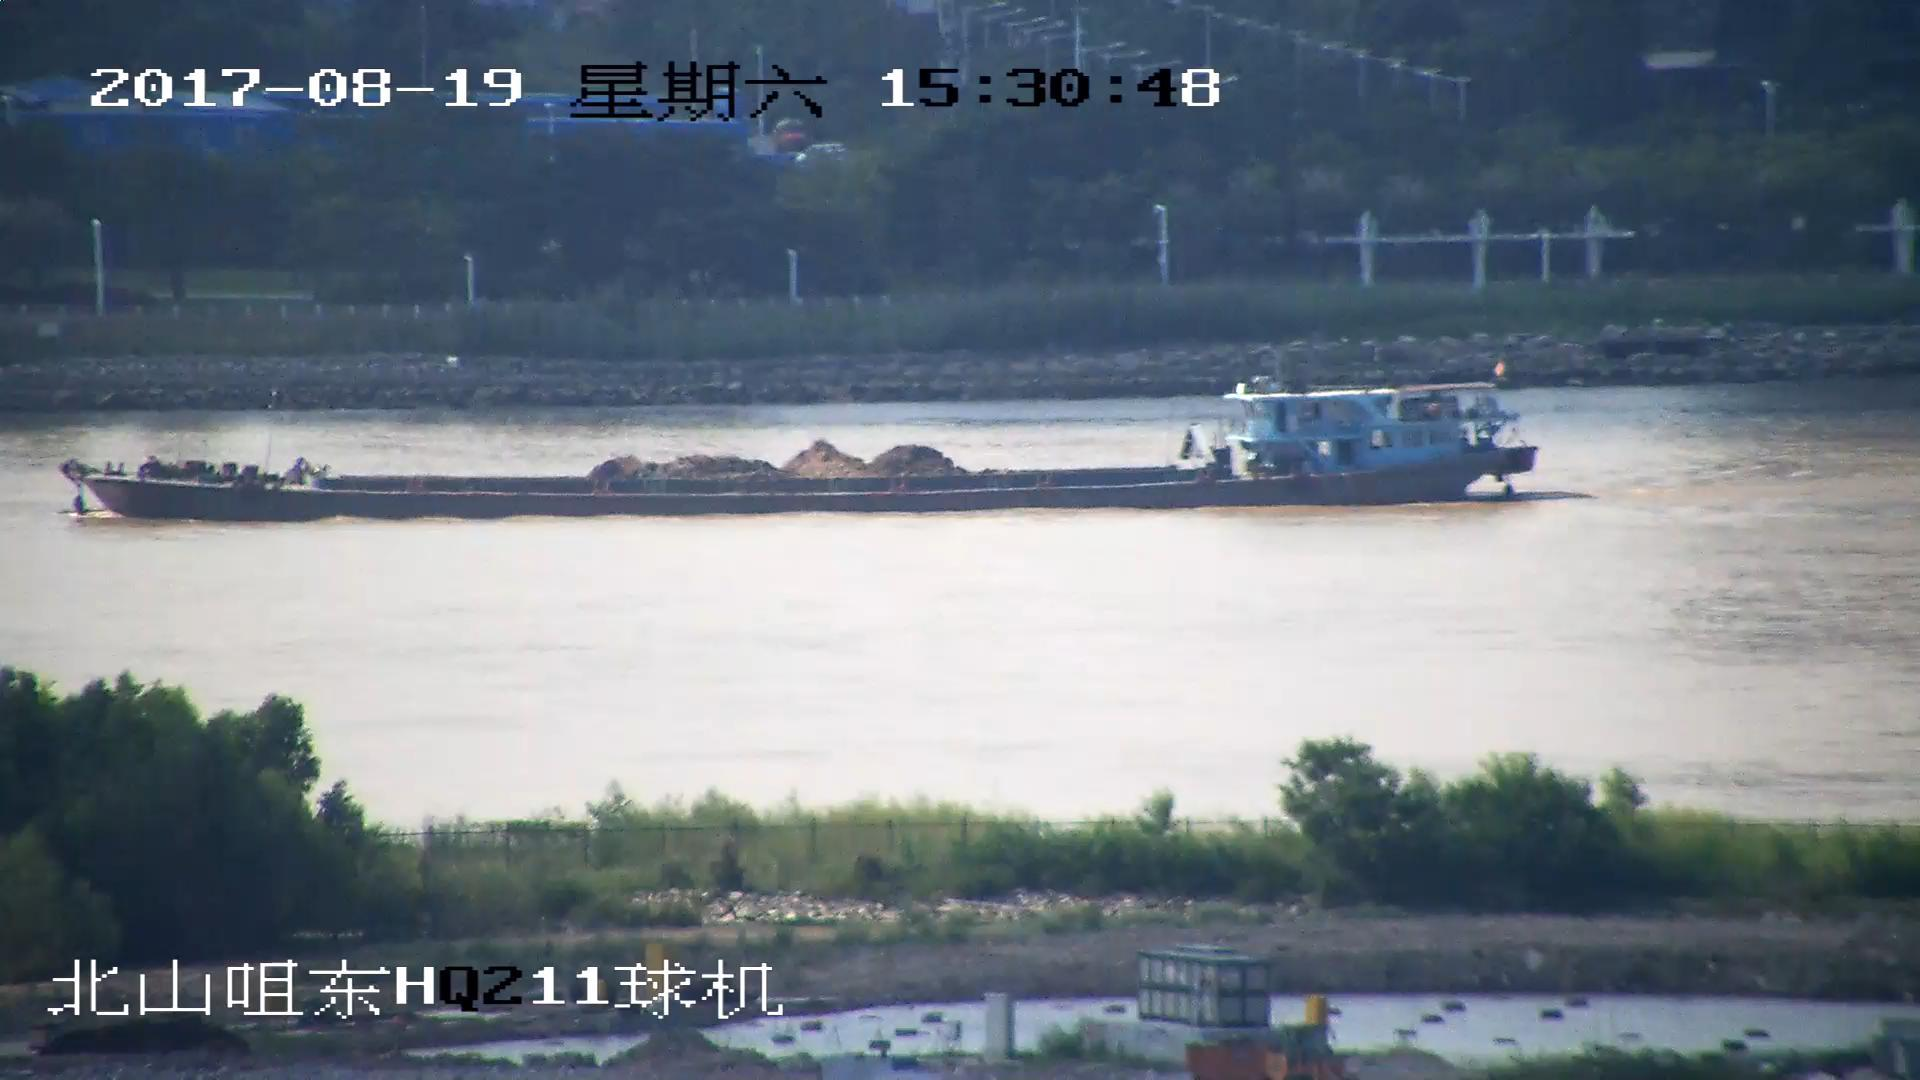Ship: (63, 375, 1535, 527)
